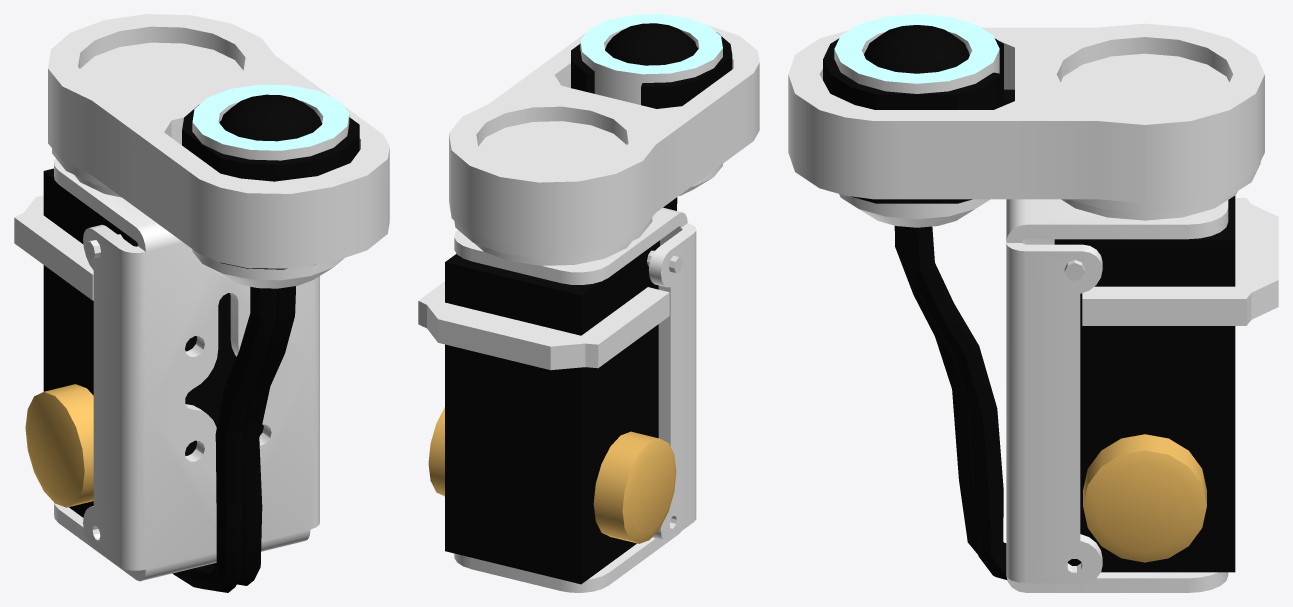
The model's file is arm4.gltf.
3 views of the same model, side by side, from view 1: azimuth 30°, elevation 25°; view 2: azimuth 150°, elevation 25°; view 3: azimuth 270°, elevation 25° (orthographic). The views are drawn at different scales.
Parts seen in each view (by area): view 1: arm4; view 2: arm4; view 3: arm4.
Boxes of the visible parts, box(x1,y1,x2,y2) form: arm4: box(14, 14, 389, 592); arm4: box(418, 14, 759, 592); arm4: box(788, 14, 1278, 592).
Size of the model in its own units: 1.58 by 3.6 by 2.9.
